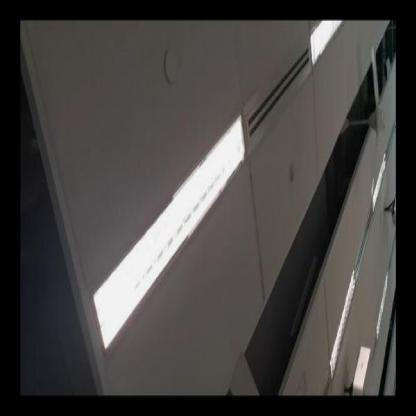light_on: (85, 104, 254, 366), (322, 258, 358, 380), (305, 20, 343, 80), (365, 149, 393, 214), (372, 265, 392, 342)
